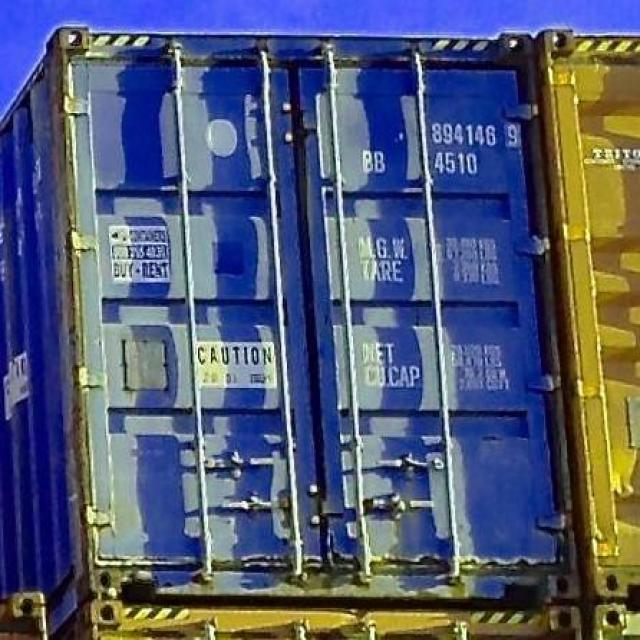ISO: (436, 149, 481, 174)
container_number: (432, 124, 524, 146)
